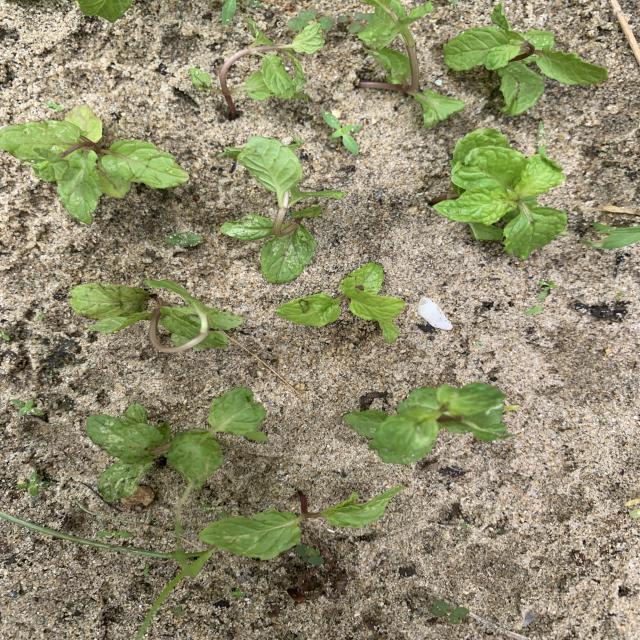crop: (1, 107, 187, 223), (88, 388, 267, 501), (444, 2, 607, 114), (222, 136, 345, 281), (432, 130, 567, 258), (202, 489, 399, 559), (358, 0, 465, 126), (345, 384, 507, 463), (190, 20, 324, 113), (71, 280, 242, 351), (276, 263, 403, 343), (79, 1, 131, 21)
weed: (1, 512, 211, 639), (324, 112, 361, 154), (289, 9, 334, 30), (431, 600, 468, 623), (17, 472, 50, 495), (338, 12, 372, 32), (165, 232, 202, 247), (295, 545, 323, 564), (12, 399, 43, 415), (539, 281, 556, 297), (626, 498, 639, 518), (46, 101, 63, 111), (523, 307, 542, 314), (292, 136, 302, 146), (231, 589, 243, 597), (1, 330, 9, 339), (37, 312, 44, 319)
